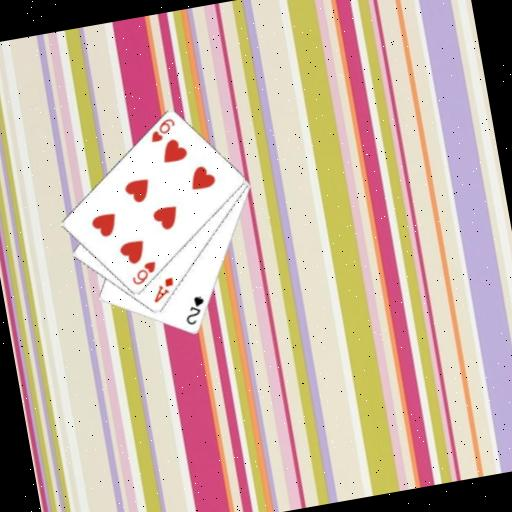2S: (179, 291, 209, 327)
6H: (144, 114, 179, 145), (126, 258, 160, 288)
AD: (147, 274, 178, 305)
